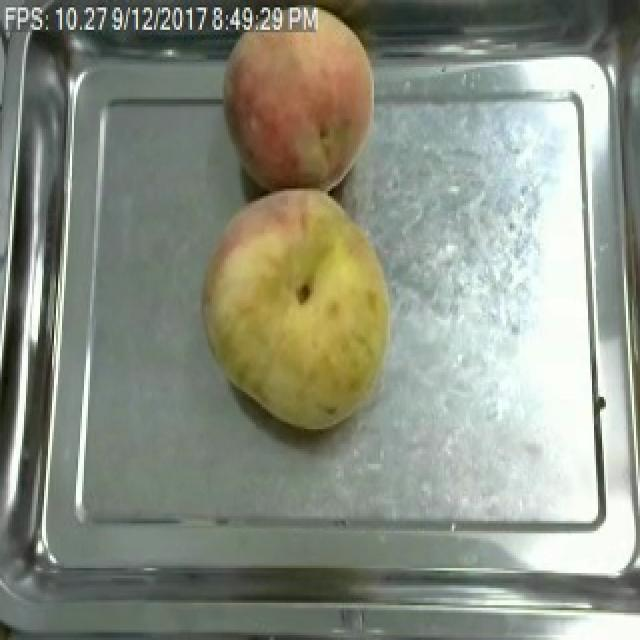Fruit: (196, 181, 400, 434), (212, 0, 384, 198)
